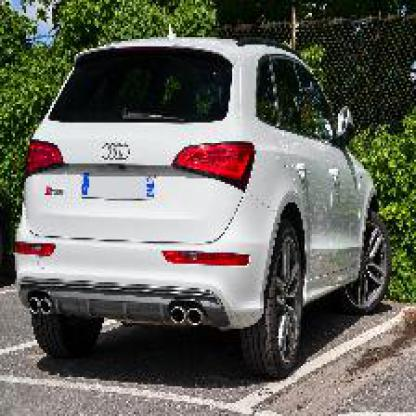not_emergency: (24, 8, 414, 388)
